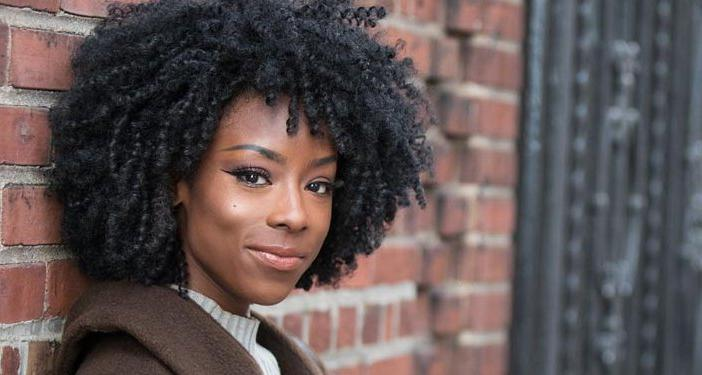Sober: (213, 104, 334, 292)
